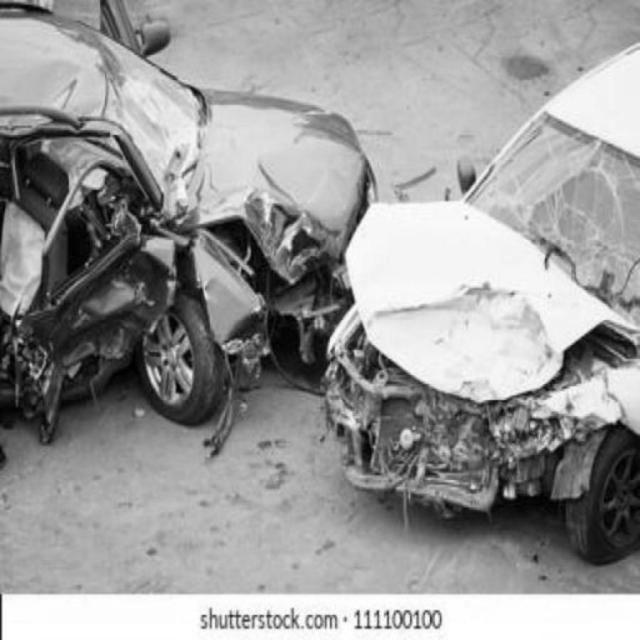accident: (17, 17, 637, 565)
